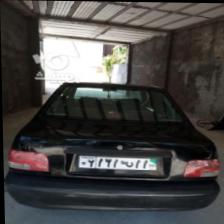plate: (78, 154, 161, 171)
